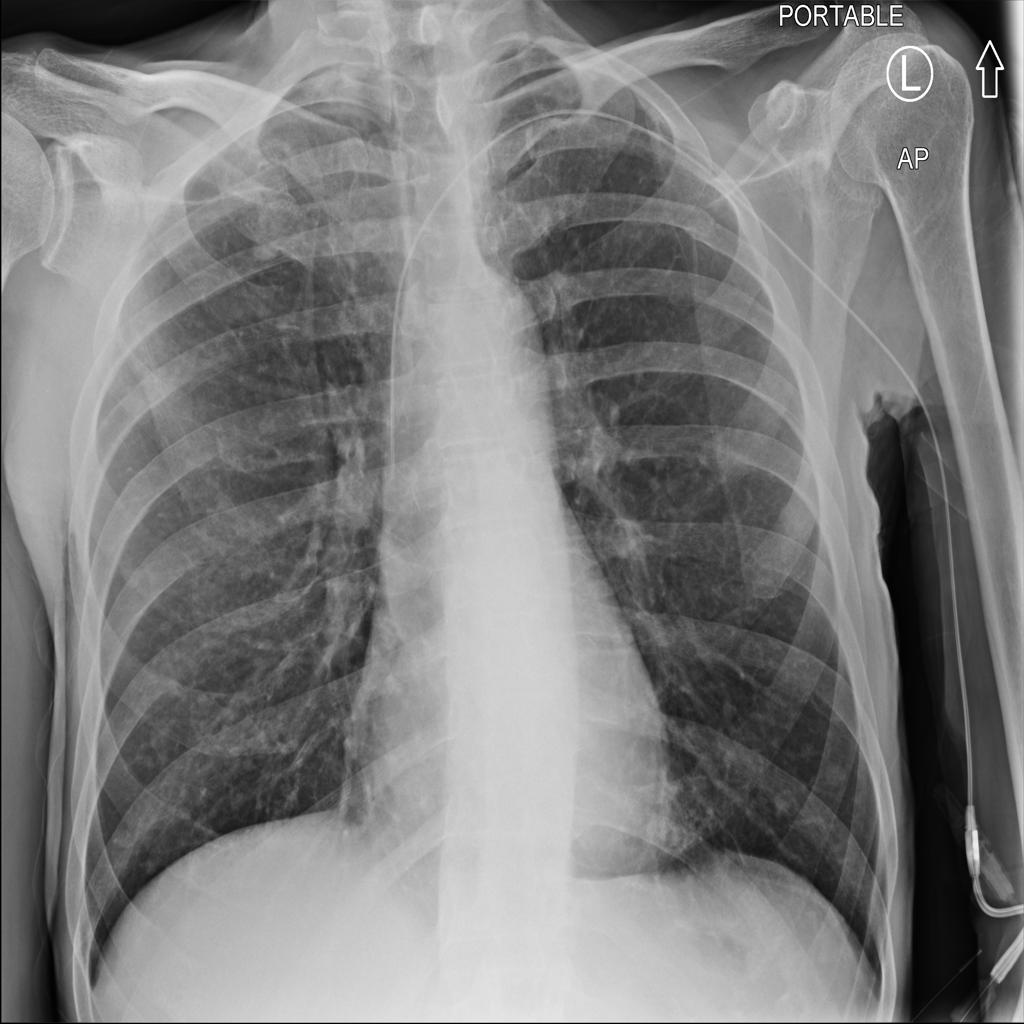nodule: (762, 772, 807, 829)
